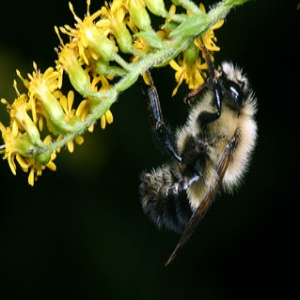bee: (139, 35, 261, 273)
